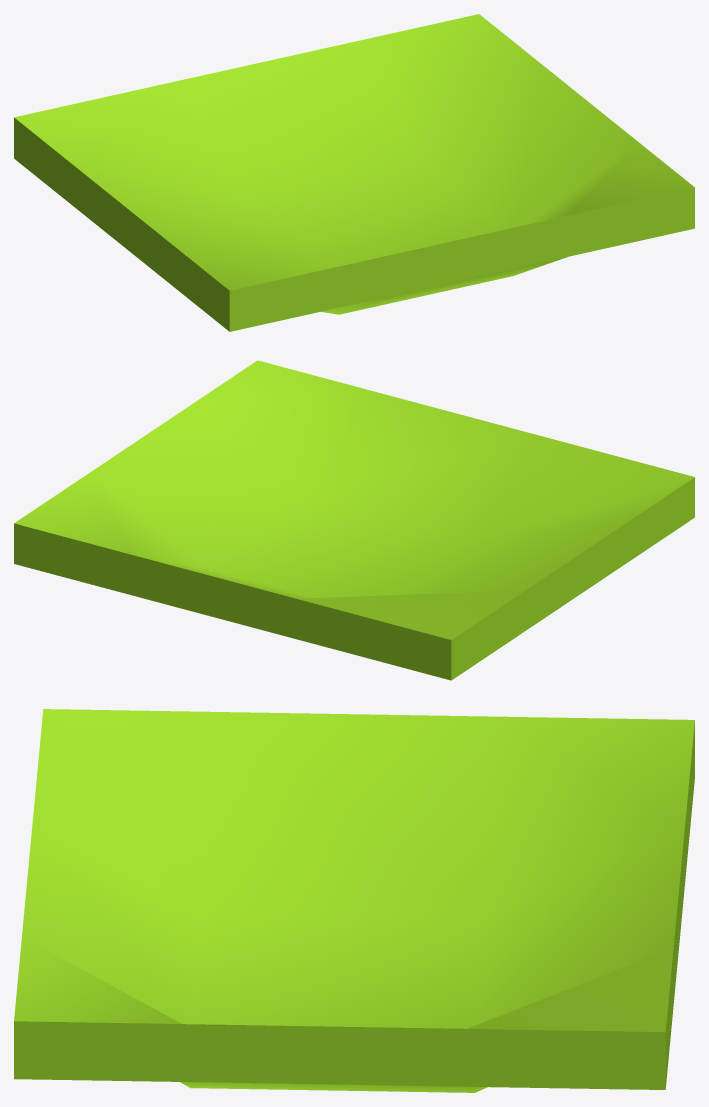
Rendered from SM_JumpPad.fbx.
3 renders of one model, top to bottom at view 1: azimuth 30°, elevation 25°; view 2: azimuth 150°, elevation 25°; view 3: azimuth 270°, elevation 25°, orthographic. The views are drawn at different scales.
Visible parts, largest first — view 1: SM_JumpPad; view 2: SM_JumpPad; view 3: SM_JumpPad.
Part boxes in pixels (x1=…): SM_JumpPad: x1=14, y1=14, x2=694, y2=331; SM_JumpPad: x1=14, y1=360, x2=694, y2=680; SM_JumpPad: x1=14, y1=709, x2=694, y2=1092.
Size of the model in its own units: 542 by 116 by 483.
